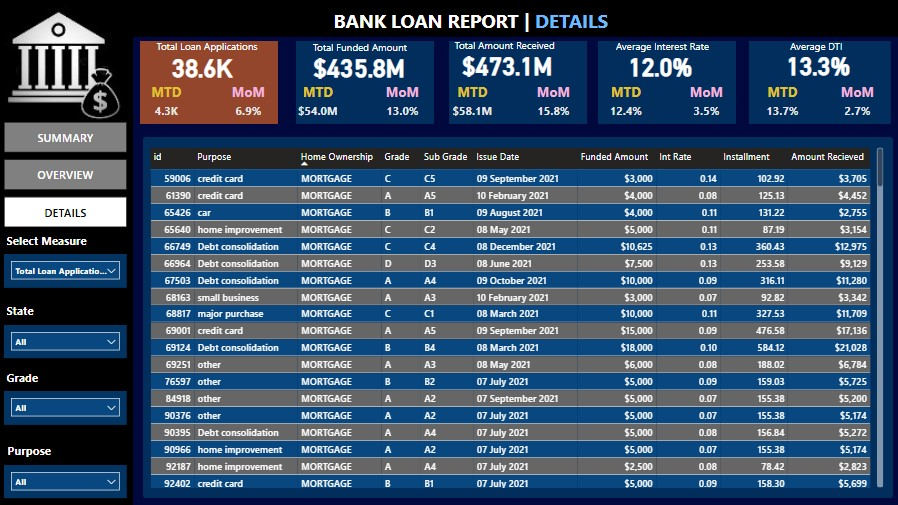

This screenshot's page, from the dashboard's own definition file:
{"tool":"powerbi","page":{"name":"DETAILS","canvas":[1280,720],"ordinal":2},"visuals":[{"type":"shape","box":[0,51.5,191.6,666.5],"z":0},{"type":"shape","box":[0,0,1279.8,52.4],"z":1000},{"type":"textbox","box":[470.6,5.7,469.1,52.4],"z":2000},{"type":"shape","box":[201.3,58.1,195.6,117.6],"z":3000},{"type":"card","fields":{"Values":["Bank_loan_data.Total Loan Applications"]},"box":[192,68,195.6,52.4],"z":4000},{"type":"textbox","box":[220.3,51,177.2,31.2],"z":5000},{"type":"card","title":"MTD","fields":{"Values":["Bank_loan_data.MTD Loan Applications"]},"box":[210.4,117.6,58.1,58.1],"z":6000},{"type":"card","title":"MoM","fields":{"Values":["Bank_loan_data.MoM Loan Applications"]},"box":[323.8,117.6,63.8,58.1],"z":7000},{"type":"shape","box":[422.4,58.1,195.6,117.6],"z":8000},{"type":"card","fields":{"Values":["Bank_loan_data.Total Funded Amount"]},"box":[413.9,68,195.6,52.4],"z":9000},{"type":"textbox","box":[429.4,52.4,180,29.8],"z":10000},{"type":"card","title":"MTD","fields":{"Values":["Bank_loan_data.MTD FundAmount"]},"box":[413.9,117.6,79.4,58.1],"z":11000},{"type":"card","title":"MoM","fields":{"Values":["Bank_loan_data.MoM Total Funded Amount"]},"box":[541.4,117.6,63.8,58.1],"z":12000},{"type":"shape","box":[639.2,58.1,195.6,117.6],"z":13000},{"type":"card","fields":{"Values":["Bank_loan_data.Total Amount Recieved"]},"box":[623.7,65.3,195.6,52.4],"z":14000},{"type":"textbox","box":[642.1,49.7,177.2,31.2],"z":15000},{"type":"card","title":"MTD","fields":{"Values":["Bank_loan_data.MTD Total Amount Recieved"]},"box":[639.2,117.6,66.6,58.1],"z":16000},{"type":"card","title":"MoM","fields":{"Values":["Bank_loan_data.MoM Total Amount Recieved"]},"box":[755.4,117.6,63.8,58.1],"z":17000},{"type":"shape","box":[1064.4,58.1,201.3,117.6],"z":18000},{"type":"card","fields":{"Values":["Bank_loan_data.Avg DTI"]},"box":[1064.4,65.2,195.6,52.4],"z":19000},{"type":"textbox","box":[1082.8,51,177.2,31.2],"z":20000},{"type":"card","title":"MTD","fields":{"Values":["Bank_loan_data.MTD Avg DTI"]},"box":[1082.8,117.6,58.1,58.1],"z":21000},{"type":"card","title":"MoM","fields":{"Values":["Bank_loan_data.MoM Avg DTI"]},"box":[1186.3,117.6,63.8,58.1],"z":22000},{"type":"shape","box":[850.4,58.1,195.6,117.6],"z":23000},{"type":"shape","box":[205.5,194.2,1063,511.7],"z":24000},{"type":"card","fields":{"Values":["Bank_loan_data.Avg Interst Rate"]},"box":[840.6,66.7,195.6,52.4],"z":25000},{"type":"textbox","box":[859,51.1,177.2,31.2],"z":26000},{"type":"card","title":"MTD","fields":{"Values":["Bank_loan_data.MTD Avg Int Rate"]},"box":[850.4,117.6,79.4,58.1],"z":27000},{"type":"card","title":"MoM","fields":{"Values":["Bank_loan_data.MoM Avg Int Rate"]},"box":[972.3,117.6,63.8,58.1],"z":28000},{"type":"slicer","fields":{"Values":["Bank_loan_data.address_state"]},"box":[8.5,460.6,174.3,46.8],"z":29000},{"type":"textbox","box":[7.1,423.8,184.3,36.9],"z":30000},{"type":"slicer","fields":{"Values":["Bank_loan_data.grade"]},"box":[8.5,554.2,174.3,48.2],"z":31000},{"type":"textbox","box":[7.1,518.7,184.3,35.4],"z":32000},{"type":"textbox","box":[8.5,622.2,184.3,36.9],"z":33000},{"type":"slicer","fields":{"Values":["Bank_loan_data.purpose"]},"box":[8.5,659.1,174.3,46.8],"z":34000},{"type":"slicer","fields":{"Values":["Select Measure.Select Measure"]},"box":[8.5,360,174.3,48.2],"z":35000},{"type":"textbox","box":[7.1,324.6,184.3,35.4],"z":36000},{"type":"tableEx","fields":{"Values":["Bank_loan_data.id","Bank_loan_data.purpose","Bank_loan_data.home_ownership","Bank_loan_data.grade","Bank_loan_data.sub_grade","Bank_loan_data.issue_date","Bank_loan_data.Total Funded Amount","Sum(Bank_loan_data.int_rate)","Sum(Bank_loan_data.installment)","Bank_loan_data.Total Amount Recieved"]},"box":[209.8,204.1,1050.2,491.8],"z":37000},{"type":"pageNavigator","box":[8.5,172.9,174.3,151.7],"z":37001},{"type":"image","box":[0,0,182.8,182.8],"z":37003}]}

Visuals, with their boxes on the page's 1280x720 design canvas (x1, y1, x2, y2). These are canvas units, not pixel positions in the 898x505 screenshot, which may show the page scaled, cropped or inside an application window:
shape: locate(0, 52, 192, 718)
shape: locate(0, 0, 1280, 52)
textbox: locate(471, 6, 940, 58)
shape: locate(201, 58, 397, 176)
card - Bank_loan_data.Total Loan Applications: locate(192, 68, 388, 120)
textbox: locate(220, 51, 398, 82)
"MTD" card: locate(210, 118, 268, 176)
"MoM" card: locate(324, 118, 388, 176)
shape: locate(422, 58, 618, 176)
card - Bank_loan_data.Total Funded Amount: locate(414, 68, 610, 120)
textbox: locate(429, 52, 609, 82)
"MTD" card: locate(414, 118, 493, 176)
"MoM" card: locate(541, 118, 605, 176)
shape: locate(639, 58, 835, 176)
card - Bank_loan_data.Total Amount Recieved: locate(624, 65, 819, 118)
textbox: locate(642, 50, 819, 81)
"MTD" card: locate(639, 118, 706, 176)
"MoM" card: locate(755, 118, 819, 176)
shape: locate(1064, 58, 1266, 176)
card - Bank_loan_data.Avg DTI: locate(1064, 65, 1260, 118)
textbox: locate(1083, 51, 1260, 82)
"MTD" card: locate(1083, 118, 1141, 176)
"MoM" card: locate(1186, 118, 1250, 176)
shape: locate(850, 58, 1046, 176)
shape: locate(206, 194, 1268, 706)
card - Bank_loan_data.Avg Interst Rate: locate(841, 67, 1036, 119)
textbox: locate(859, 51, 1036, 82)
"MTD" card: locate(850, 118, 930, 176)
"MoM" card: locate(972, 118, 1036, 176)
slicer - Bank_loan_data.address_state: locate(8, 461, 183, 507)
textbox: locate(7, 424, 191, 461)
slicer - Bank_loan_data.grade: locate(8, 554, 183, 602)
textbox: locate(7, 519, 191, 554)
textbox: locate(8, 622, 193, 659)
slicer - Bank_loan_data.purpose: locate(8, 659, 183, 706)
slicer - Select Measure.Select Measure: locate(8, 360, 183, 408)
textbox: locate(7, 325, 191, 360)
tableEx - Bank_loan_data.id x Bank_loan_data.purpose: locate(210, 204, 1260, 696)
pageNavigator: locate(8, 173, 183, 325)
image: locate(0, 0, 183, 183)
